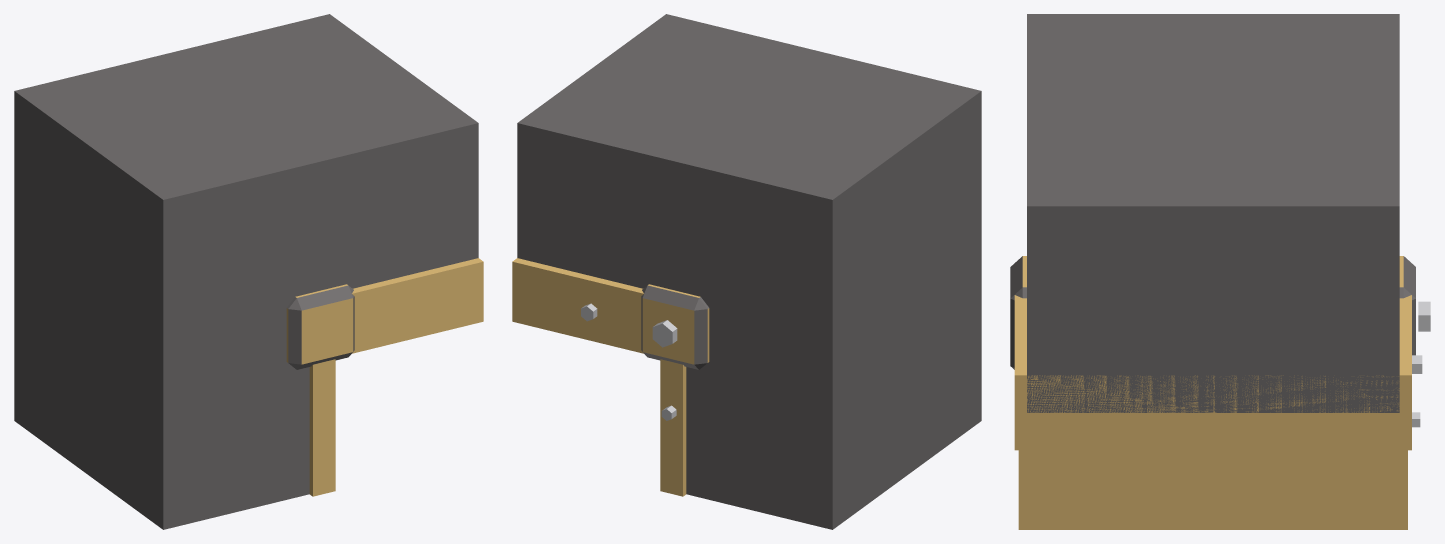
Rendered from CO_Tile_14.fbx.
3 views of the same model, side by side, from view 1: azimuth 30°, elevation 25°; view 2: azimuth 150°, elevation 25°; view 3: azimuth 270°, elevation 25° (orthographic). The views are drawn at different scales.
Visible parts, largest first — view 1: CO_Tile_14; view 2: CO_Tile_14; view 3: CO_Tile_14.
Boxes of the visible parts, bbox=[...] form: CO_Tile_14: bbox=[14, 14, 483, 529]; CO_Tile_14: bbox=[512, 14, 981, 529]; CO_Tile_14: bbox=[1010, 14, 1430, 529].
Size of the model in its own units: 1.1 by 1.1 by 1.02.
